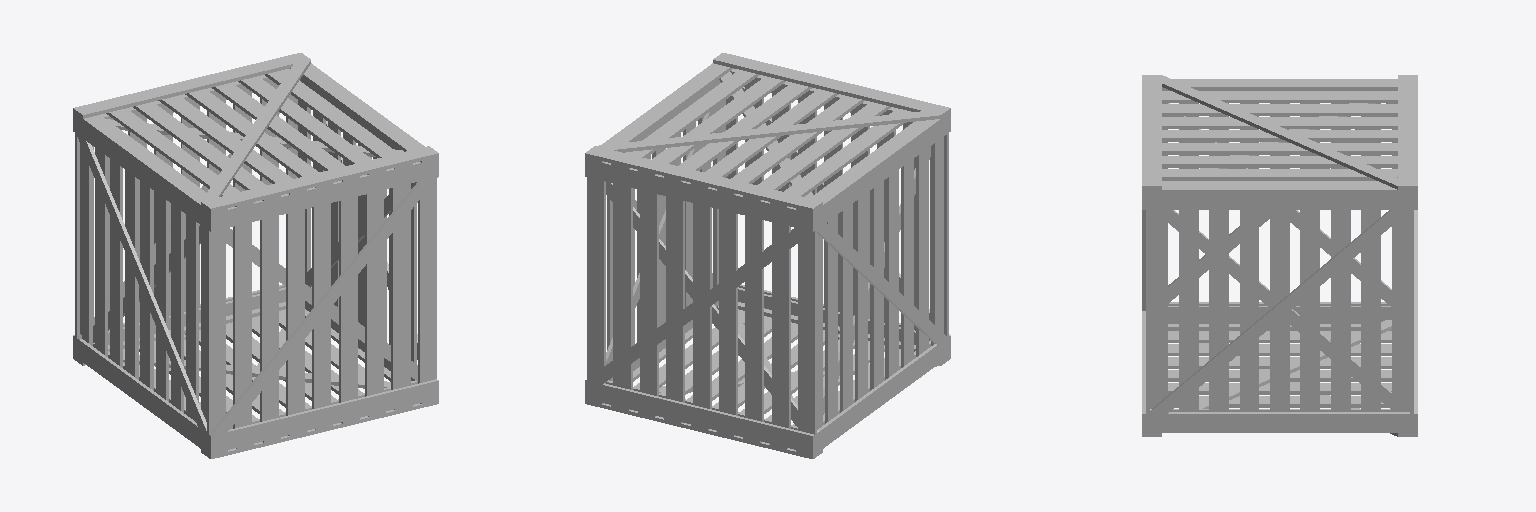
Rendered from crate_1.obj.
The picture shows the model from 3 angles: view 1: azimuth 30°, elevation 25°; view 2: azimuth 150°, elevation 25°; view 3: azimuth 270°, elevation 25°; orthographic projection.
Parts seen in each view (by area): view 1: crate; view 2: crate; view 3: crate.
Boxes of the visible parts, x1,y1,x2,y2 form: crate: [73, 53, 438, 458]; crate: [585, 53, 950, 458]; crate: [1142, 75, 1417, 436].
Size of the model in its own units: 28.68 by 30.12 by 29.99.